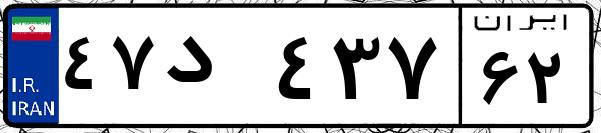2: (525, 38, 570, 115)
3: (330, 28, 385, 110)
4: (270, 28, 330, 110), (57, 26, 110, 100)
6: (475, 38, 525, 113)
7: (385, 28, 445, 110), (110, 28, 158, 98)
د: (158, 20, 270, 120)
